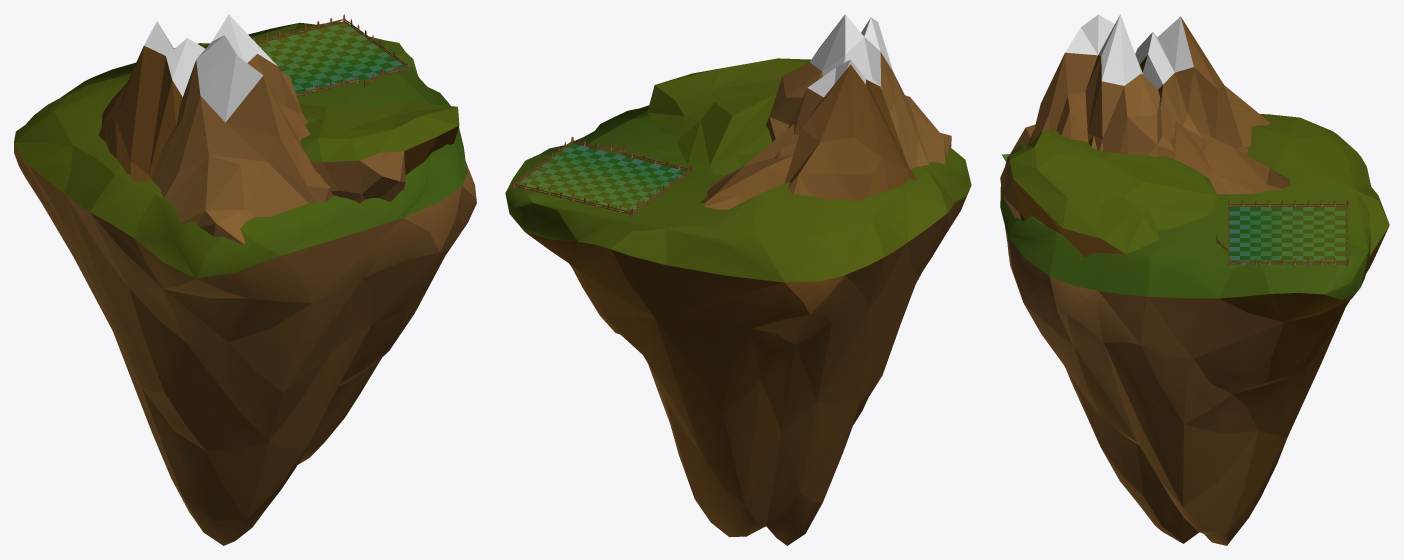
3 renders of one model, left to right at view 1: azimuth 30°, elevation 25°; view 2: azimuth 150°, elevation 25°; view 3: azimuth 270°, elevation 25°, orthographic. The views are drawn at different scales.
Parts seen in each view (by area): view 1: rock_1, 4seasons_mountain1, 4seasons_mountain006, 4seasons_mountain2, plane_map; view 2: rock_1, 4seasons_mountain2, 4seasons_mountain006, 4seasons_mountain1, plane_map, 4seasons_mountain003; view 3: rock_1, 4seasons_mountain006, 4seasons_mountain1, 4seasons_mountain2, plane_map, 4seasons_mountain003.
Boxes of the visible parts, x1,y1,x2,y2 form: rock_1: [14, 21, 476, 545]; 4seasons_mountain1: [152, 14, 333, 249]; 4seasons_mountain006: [299, 102, 459, 203]; 4seasons_mountain2: [98, 21, 205, 182]; plane_map: [257, 22, 407, 95]; rock_1: [505, 105, 971, 545]; 4seasons_mountain2: [774, 59, 916, 200]; 4seasons_mountain006: [647, 58, 810, 175]; 4seasons_mountain1: [766, 14, 951, 169]; plane_map: [515, 143, 688, 213]; 4seasons_mountain003: [700, 124, 793, 209]; rock_1: [1000, 114, 1389, 545]; 4seasons_mountain006: [1000, 131, 1218, 257]; 4seasons_mountain1: [1001, 14, 1175, 162]; 4seasons_mountain2: [1135, 16, 1270, 154]; plane_map: [1229, 207, 1345, 264]; 4seasons_mountain003: [1088, 121, 1290, 194].
Bounding box in the file's own units: 3939 × 5410 × 3695.
10 materials, 10 textured.
